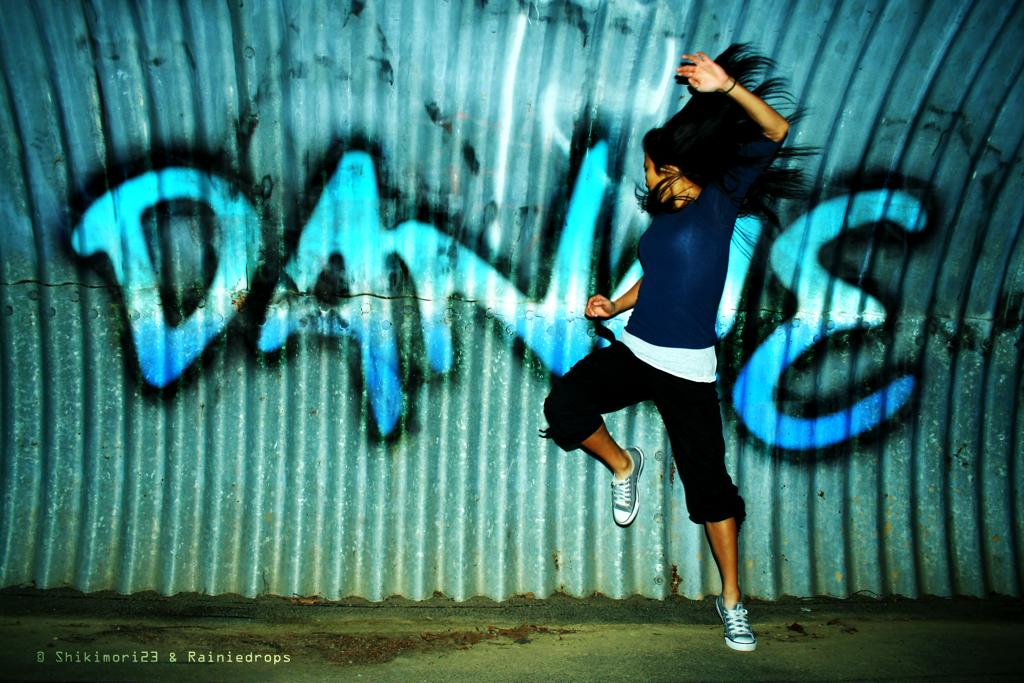face: (643, 147, 679, 208)
